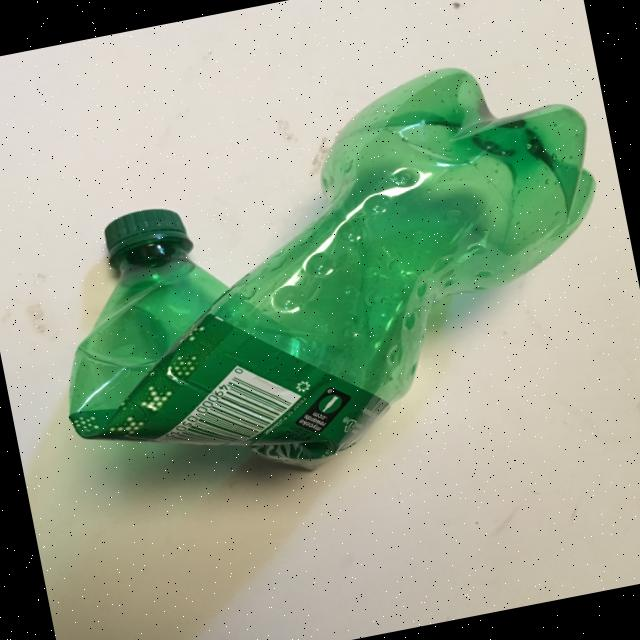plastic: (17, 42, 640, 514)
